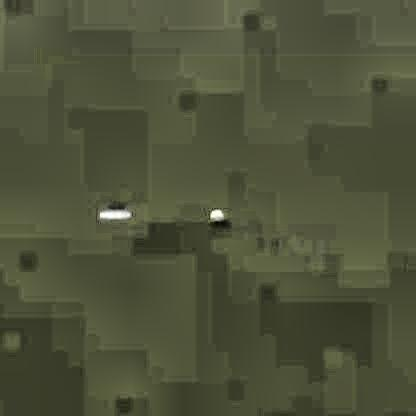golfball: (208, 207, 222, 222)
